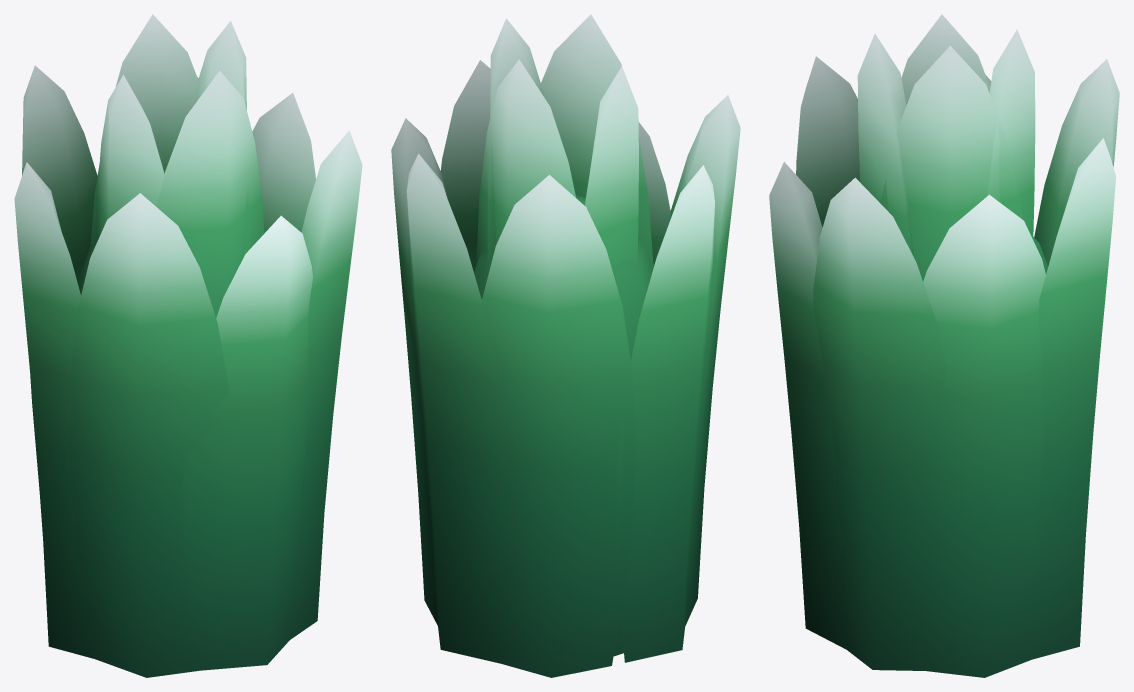
File: PineGrass.fbx
The picture shows the model from 3 angles, left to right: view 1: azimuth 30°, elevation 25°; view 2: azimuth 150°, elevation 25°; view 3: azimuth 270°, elevation 25°; orthographic projection. The views are drawn at different scales.
Visible parts, largest first — view 1: PineGrass; view 2: PineGrass; view 3: PineGrass.
Part boxes in pixels (<box>): PineGrass: <box>14,14,362,677</box>; PineGrass: <box>391,14,740,677</box>; PineGrass: <box>769,14,1119,677</box>.
Size of the model in its own units: 0.8166 by 1.49 by 0.789.
1 material, 1 textured.
